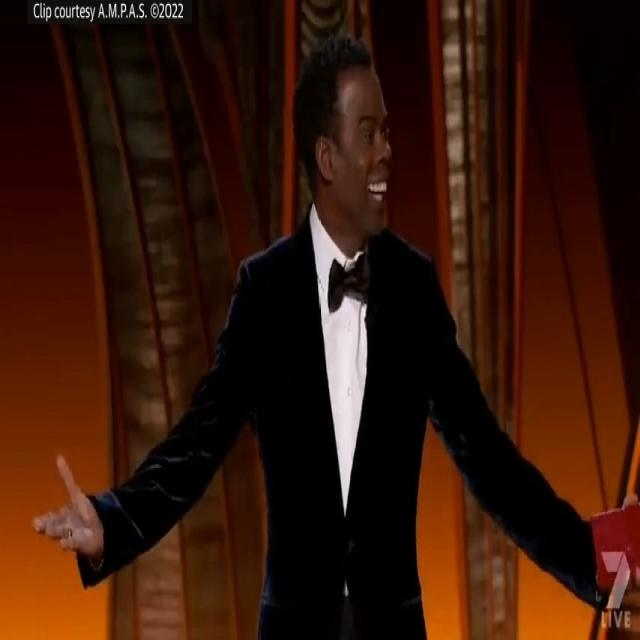non-fight: (27, 34, 640, 640)
